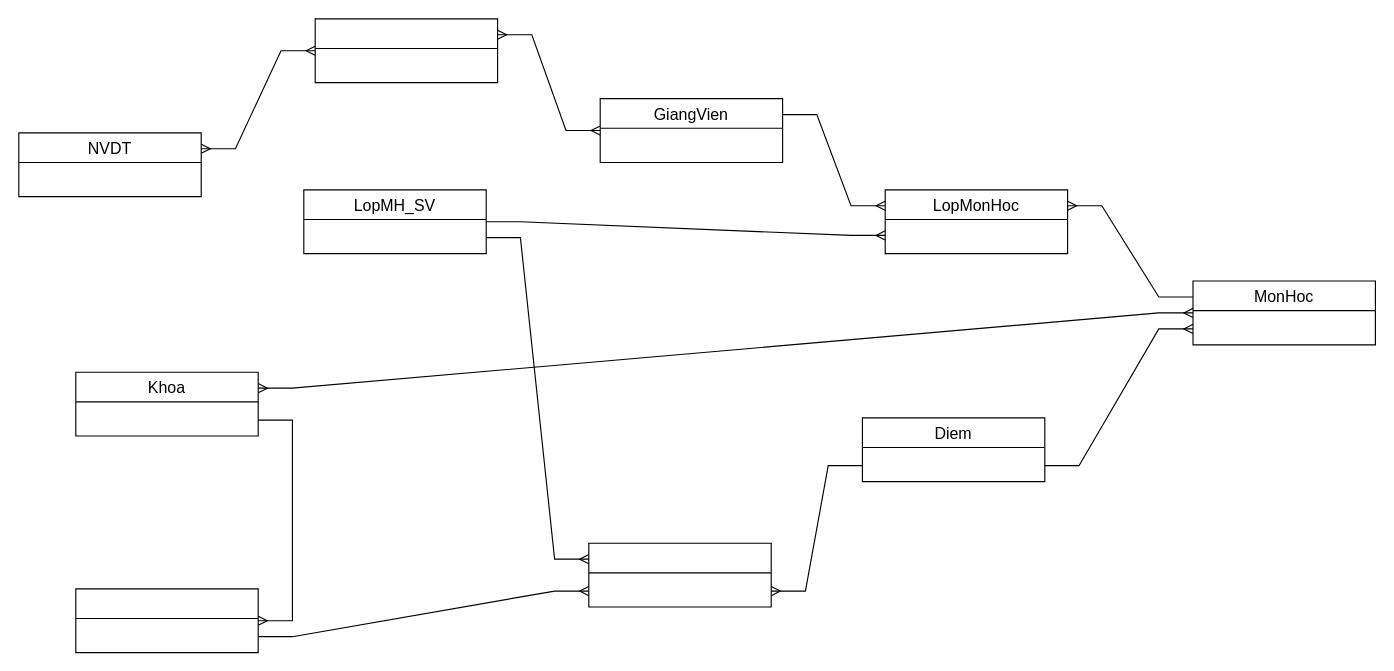
This 1394x671 diagram has some shape labels left out. The centre of each missing label's shape, as x and y in pixels:
GiangVien-NVDT: the point at 406,50
LopQL: the point at 166,620
SinhVien: the point at 679,574
